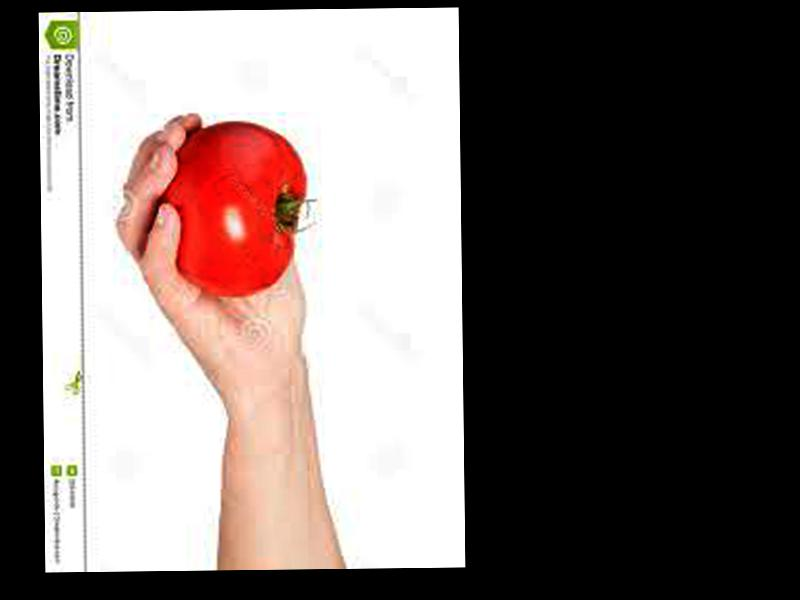Tomato: (159, 120, 309, 300)
